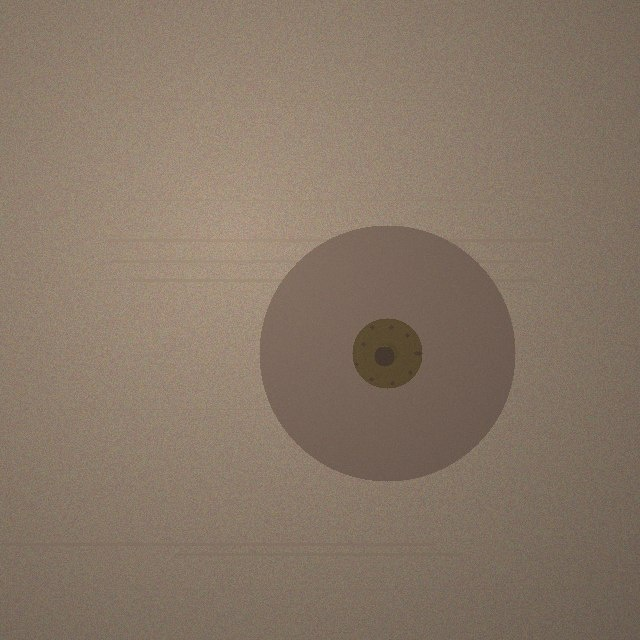cold_weld: (259, 225, 515, 481)
